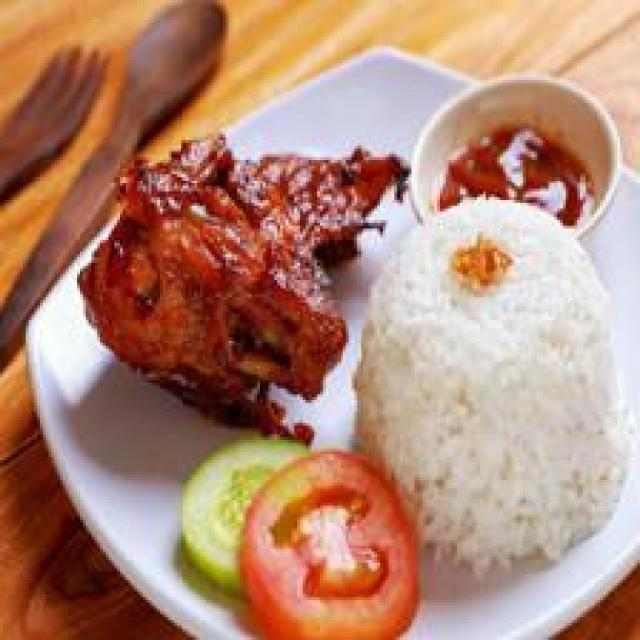Wet Waste: (363, 196, 620, 559)
